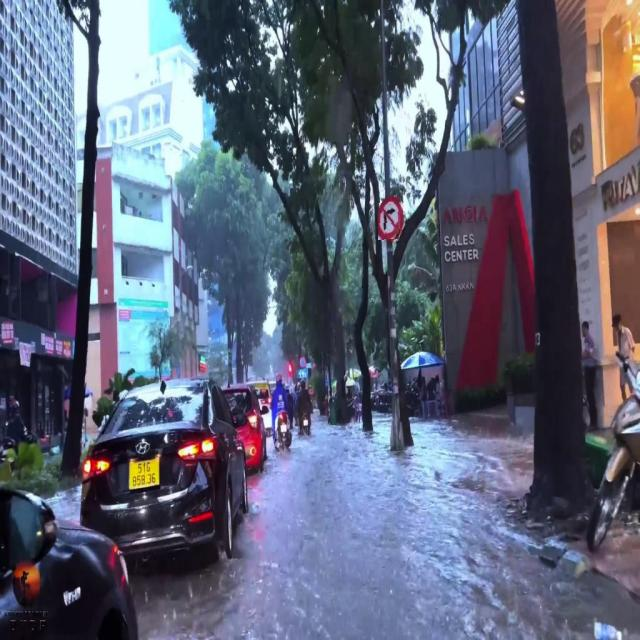cam_re_phai: (378, 197, 403, 240)
